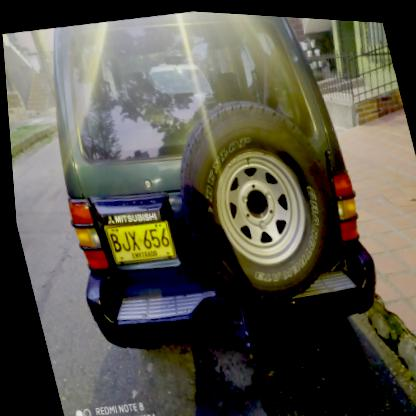placa: (95, 208, 176, 271)
